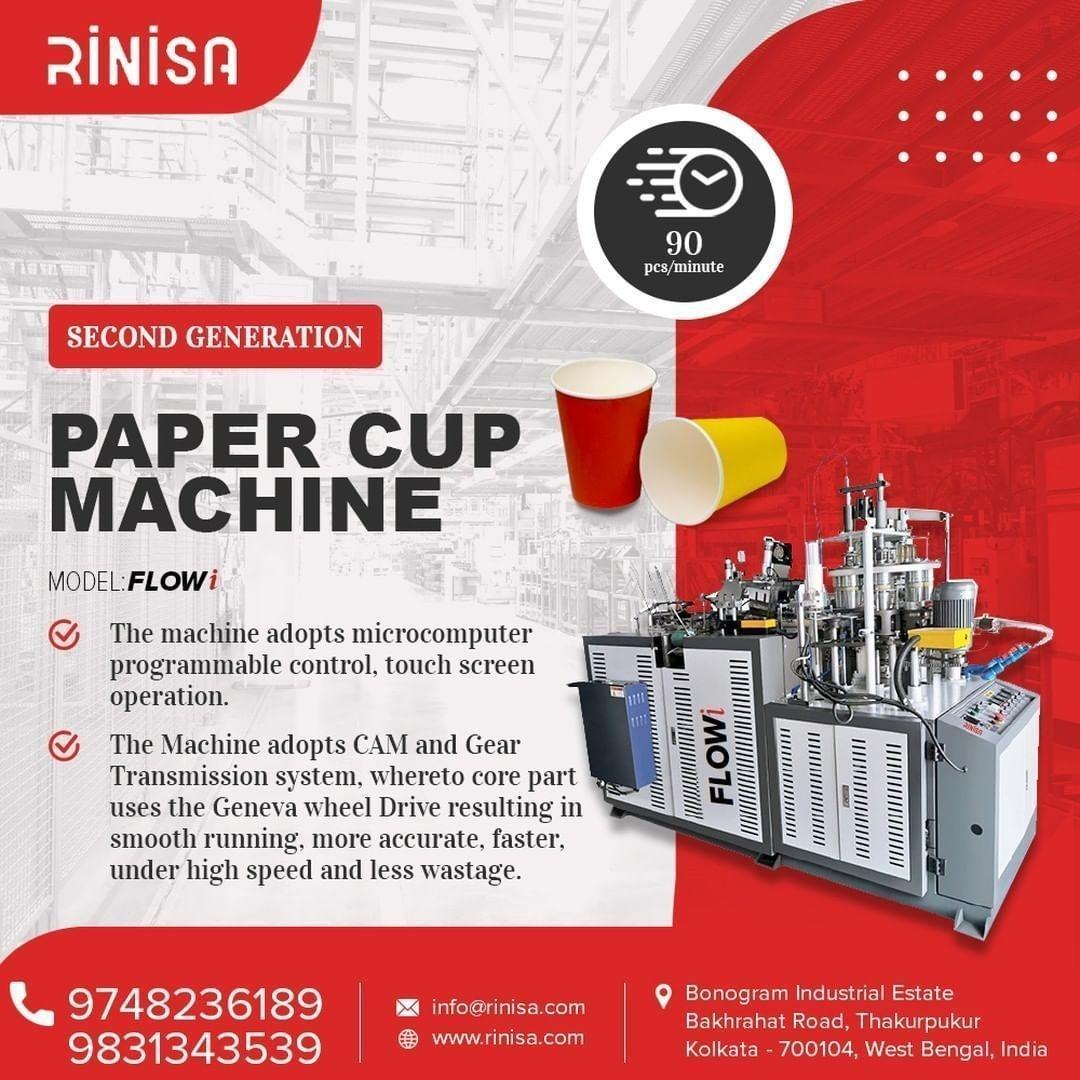cup-disposable: (637, 413, 795, 530), (549, 357, 660, 513)
